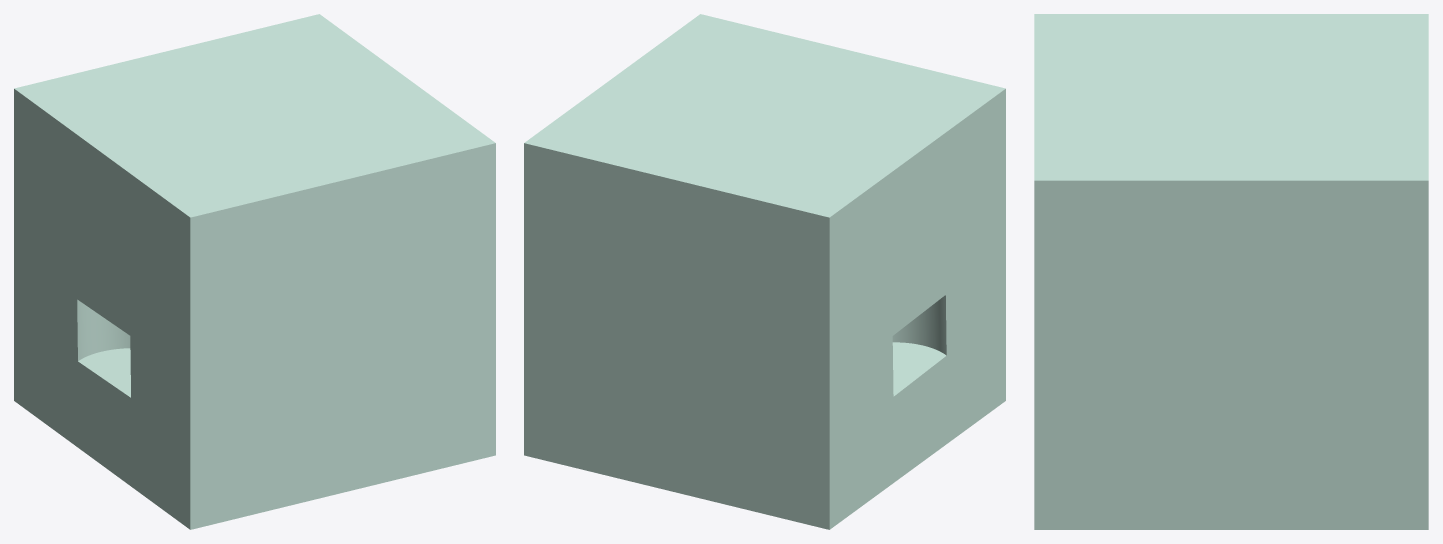
3 renders of one model, left to right at view 1: azimuth 30°, elevation 25°; view 2: azimuth 150°, elevation 25°; view 3: azimuth 270°, elevation 25°, orthographic. The views are drawn at different scales.
Visible parts, largest first — view 1: Renderer Node; view 2: Renderer Node; view 3: Renderer Node.
Part boxes in pixels (x1,y1,x2,y2): Renderer Node: [14, 14, 495, 529]; Renderer Node: [524, 14, 1005, 529]; Renderer Node: [1034, 14, 1428, 529].
Bounding box in the file's own units: 1.02 × 0.9922 × 1.02.
